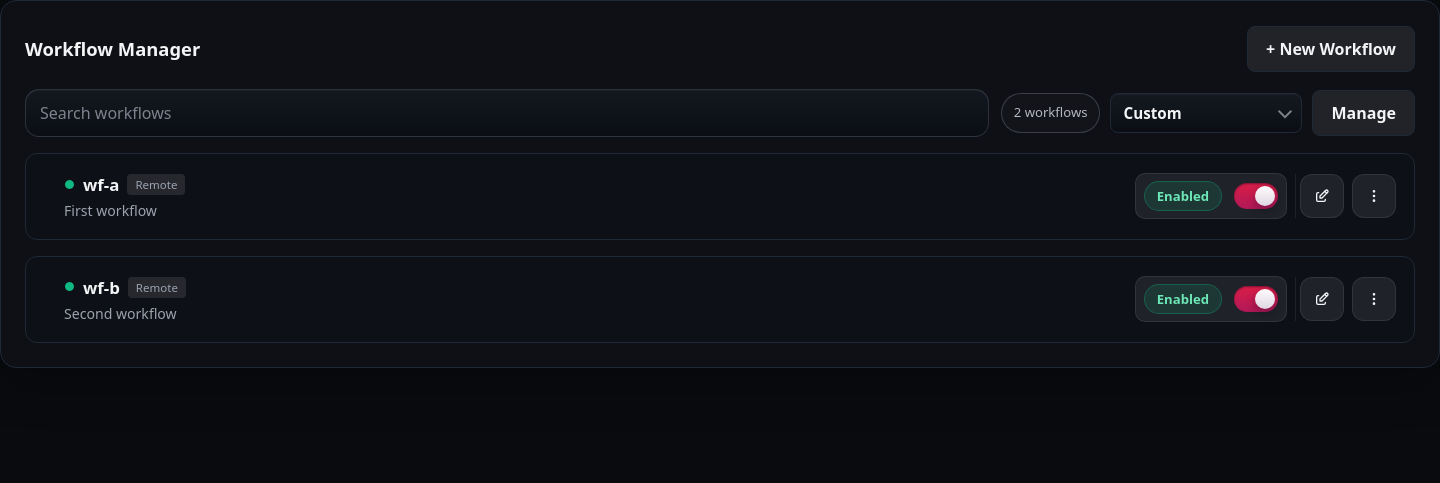
Scenario: WorkflowManager › toggles workflow selection when the main content area is clicked in management mode
Click the button "Manage": (1364, 113) [1312,90,1415,136]
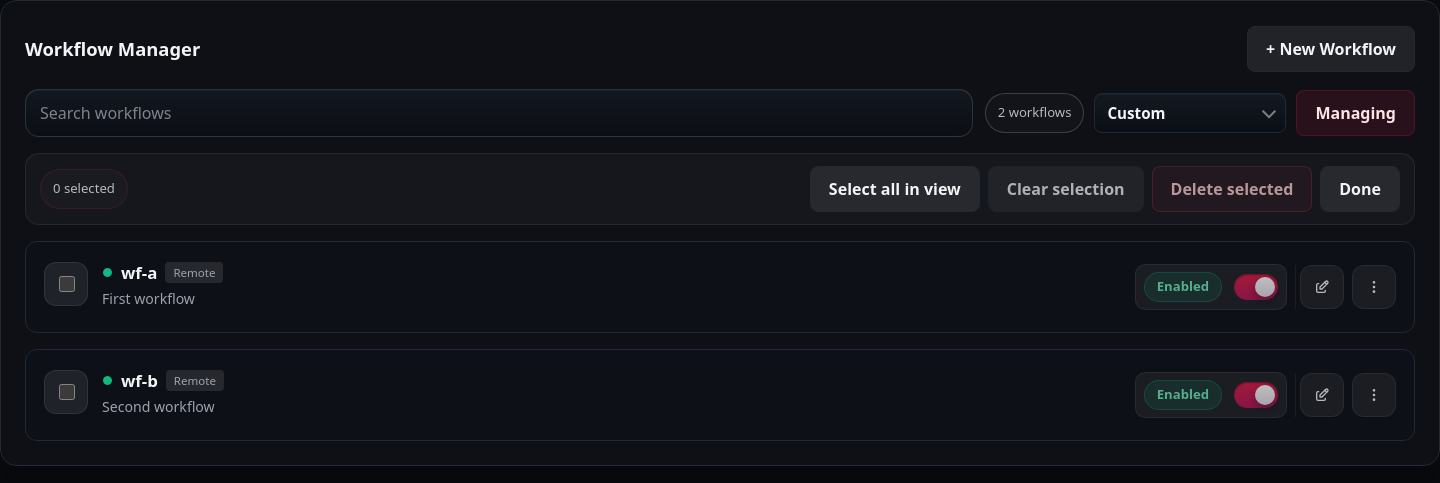
Click the button "● wf-a Remote First workflow": (134, 285) [44,261,223,308]
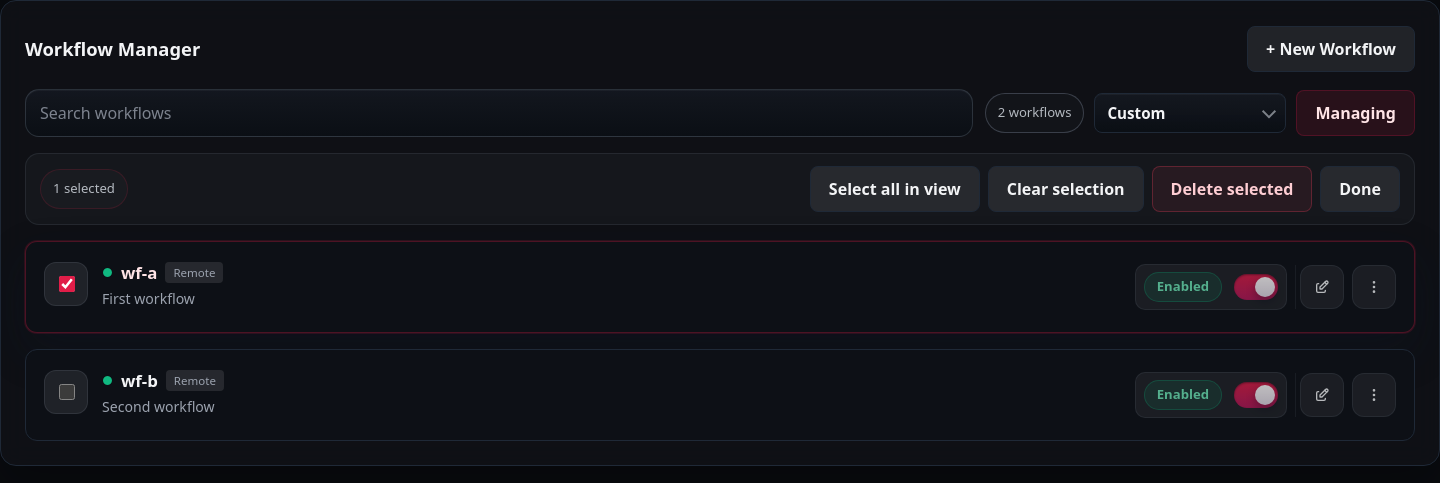
expect the text "1 selected" is shown: met, box [40,169,128,209]
Click the button "● wf-a Remote First workflow": (134, 285) [44,261,223,308]
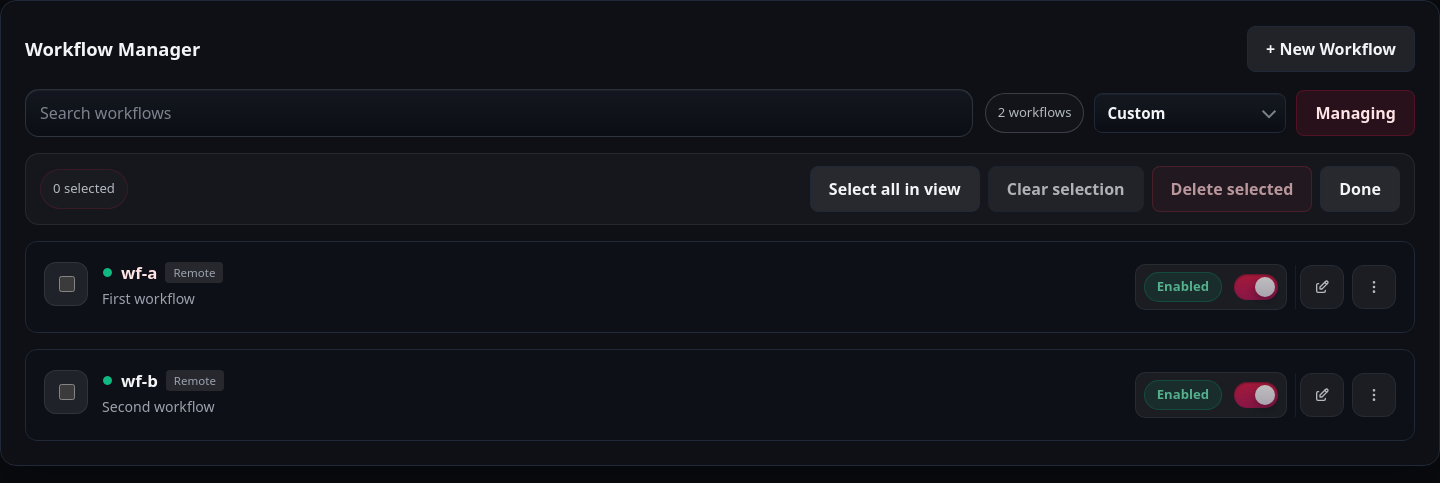
expect the text "1 selected" is gone: met
